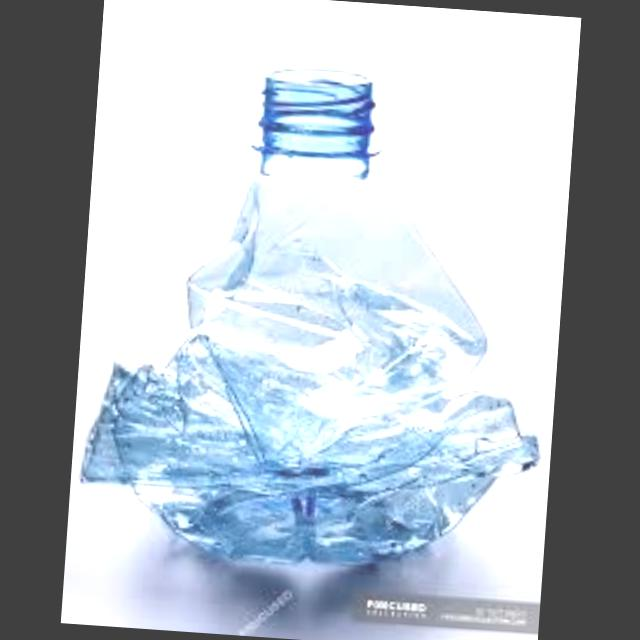trash: (74, 31, 564, 592)
